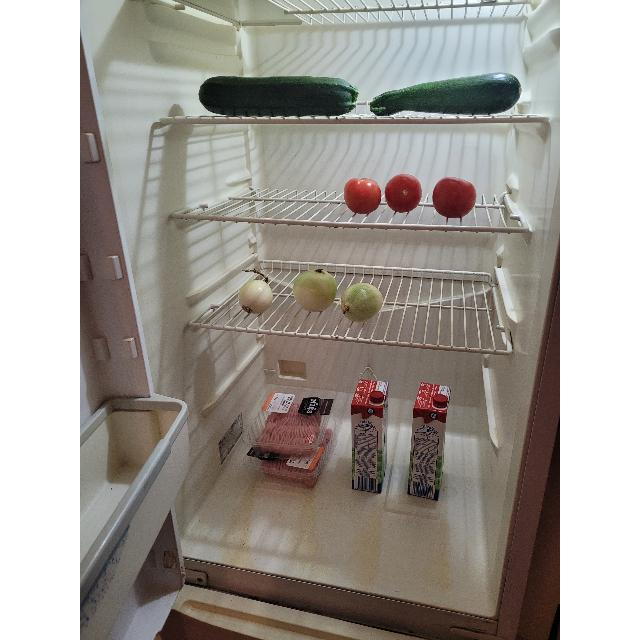meat: (260, 400, 322, 446), (262, 451, 320, 483)
milk: (406, 382, 448, 502), (349, 378, 386, 496)
onion: (292, 269, 338, 311), (340, 280, 384, 322), (238, 279, 274, 315)
tomato: (432, 177, 478, 219), (343, 176, 381, 214), (384, 174, 422, 212)
zucchini: (372, 72, 520, 116), (202, 76, 354, 116)
